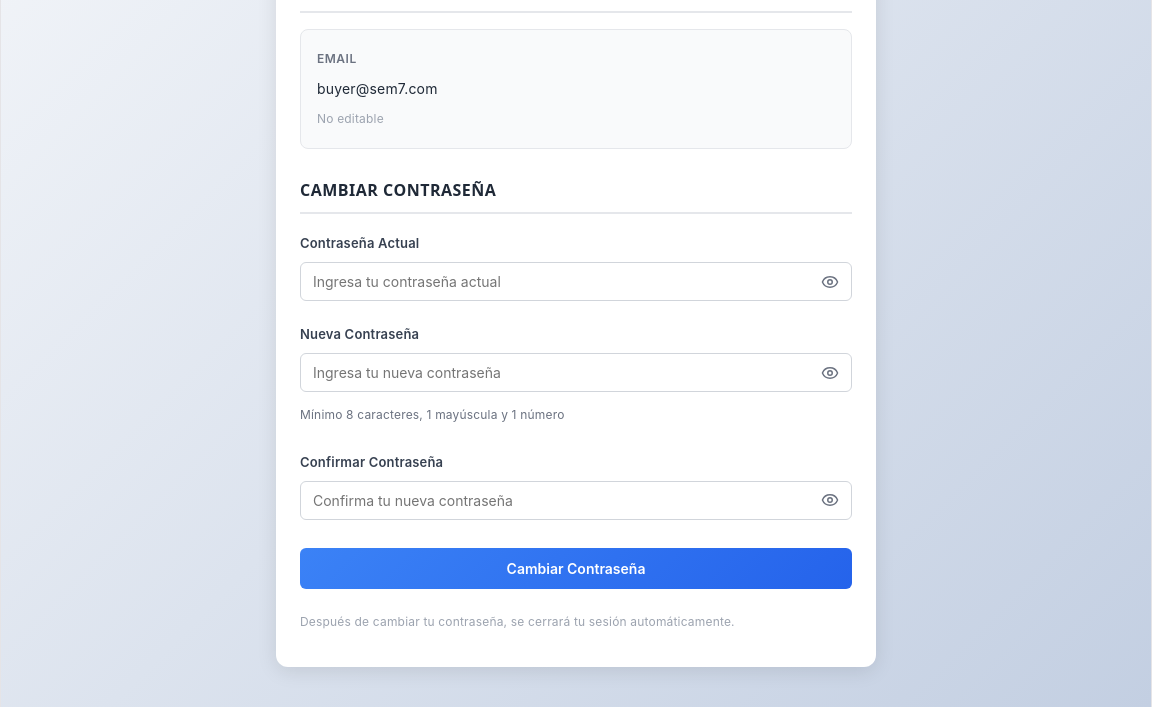
it: ProfilePage › shows error when current password is empty on submit
The width and height of the screenshot is (1152, 707).
(page scrolled)
Click the button "Cambiar Contraseña" at (576, 568), box x1=300 y1=548 x2=852 y2=589
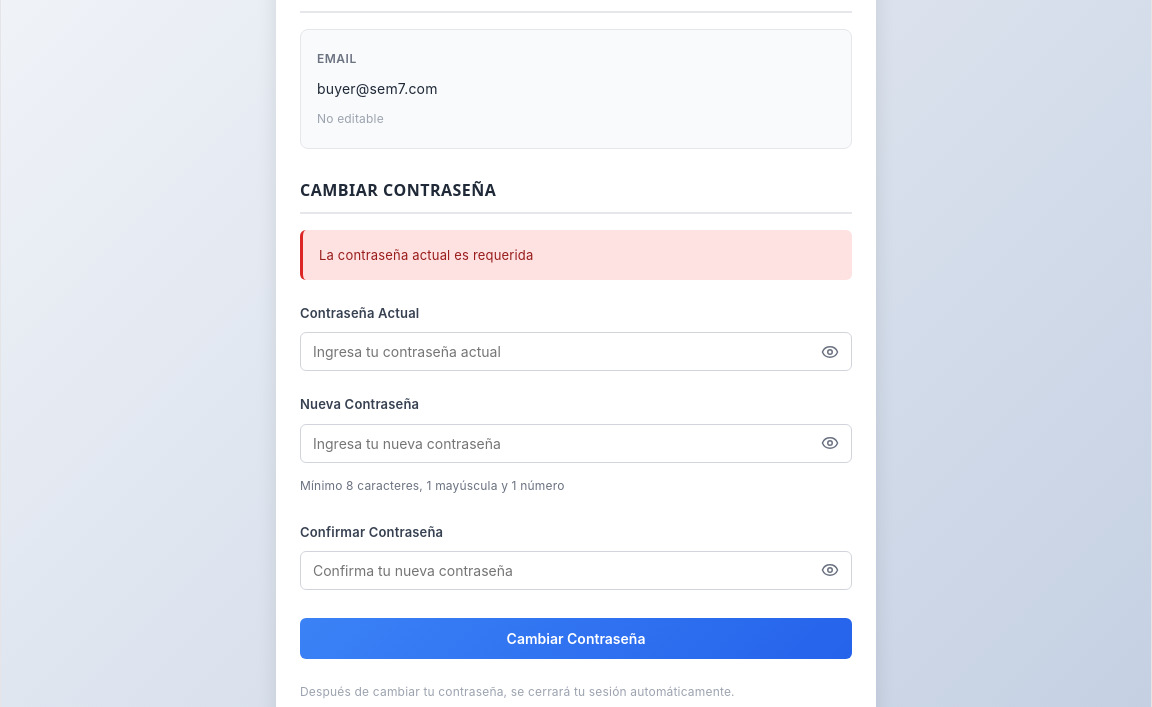
Now the text "La contraseña actual es requerida" is shown, box x1=300 y1=230 x2=852 y2=280
